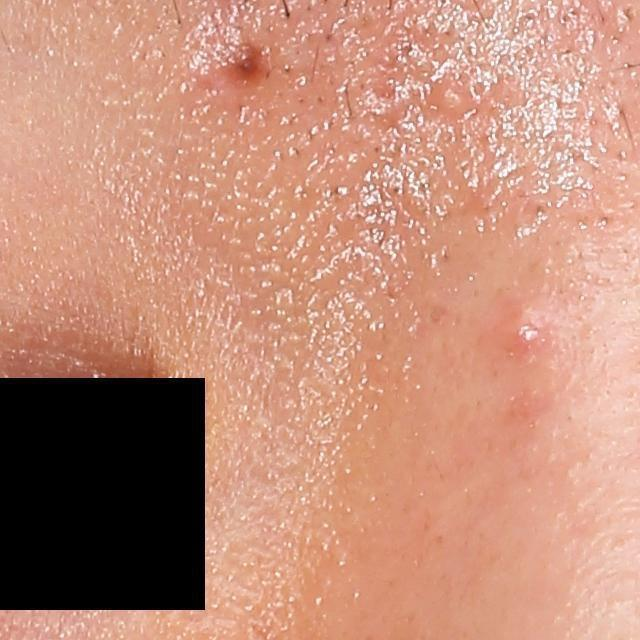nevus: (220, 32, 266, 89)
